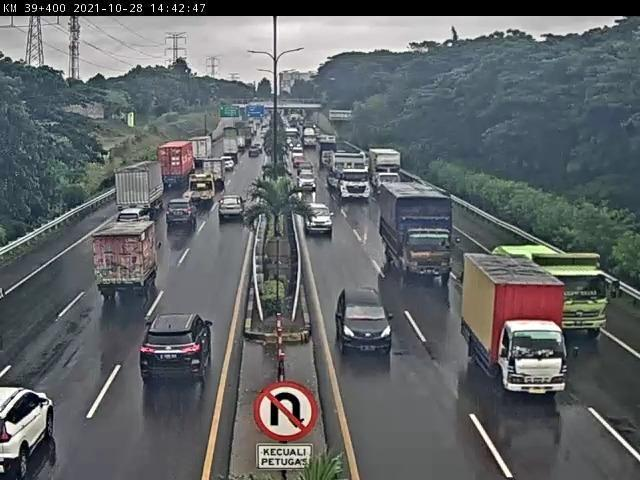car: (138, 313, 213, 382), (2, 388, 57, 479), (337, 287, 393, 355), (304, 204, 335, 239), (167, 199, 197, 227), (118, 206, 153, 230), (218, 195, 244, 221), (298, 173, 322, 197)
truck: (464, 250, 567, 393), (494, 246, 609, 333), (381, 183, 455, 284), (97, 225, 165, 306), (117, 161, 166, 214), (332, 155, 375, 203), (368, 148, 402, 195), (185, 175, 218, 204), (320, 142, 342, 174)
